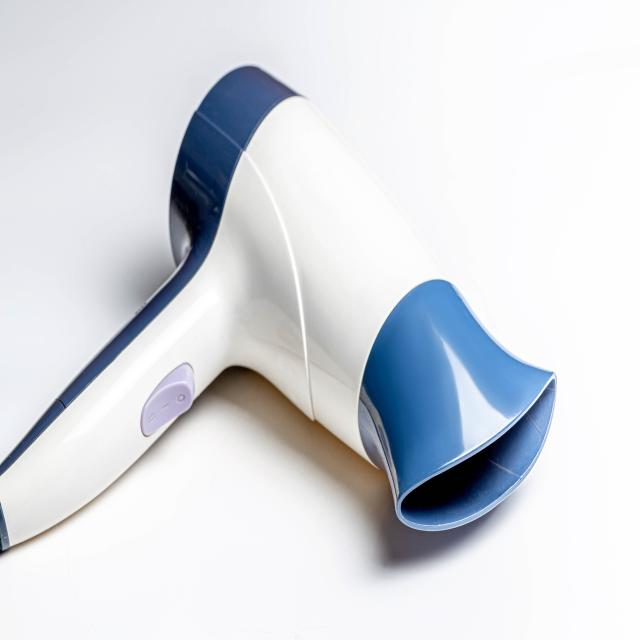dryer: (0, 63, 558, 555)
